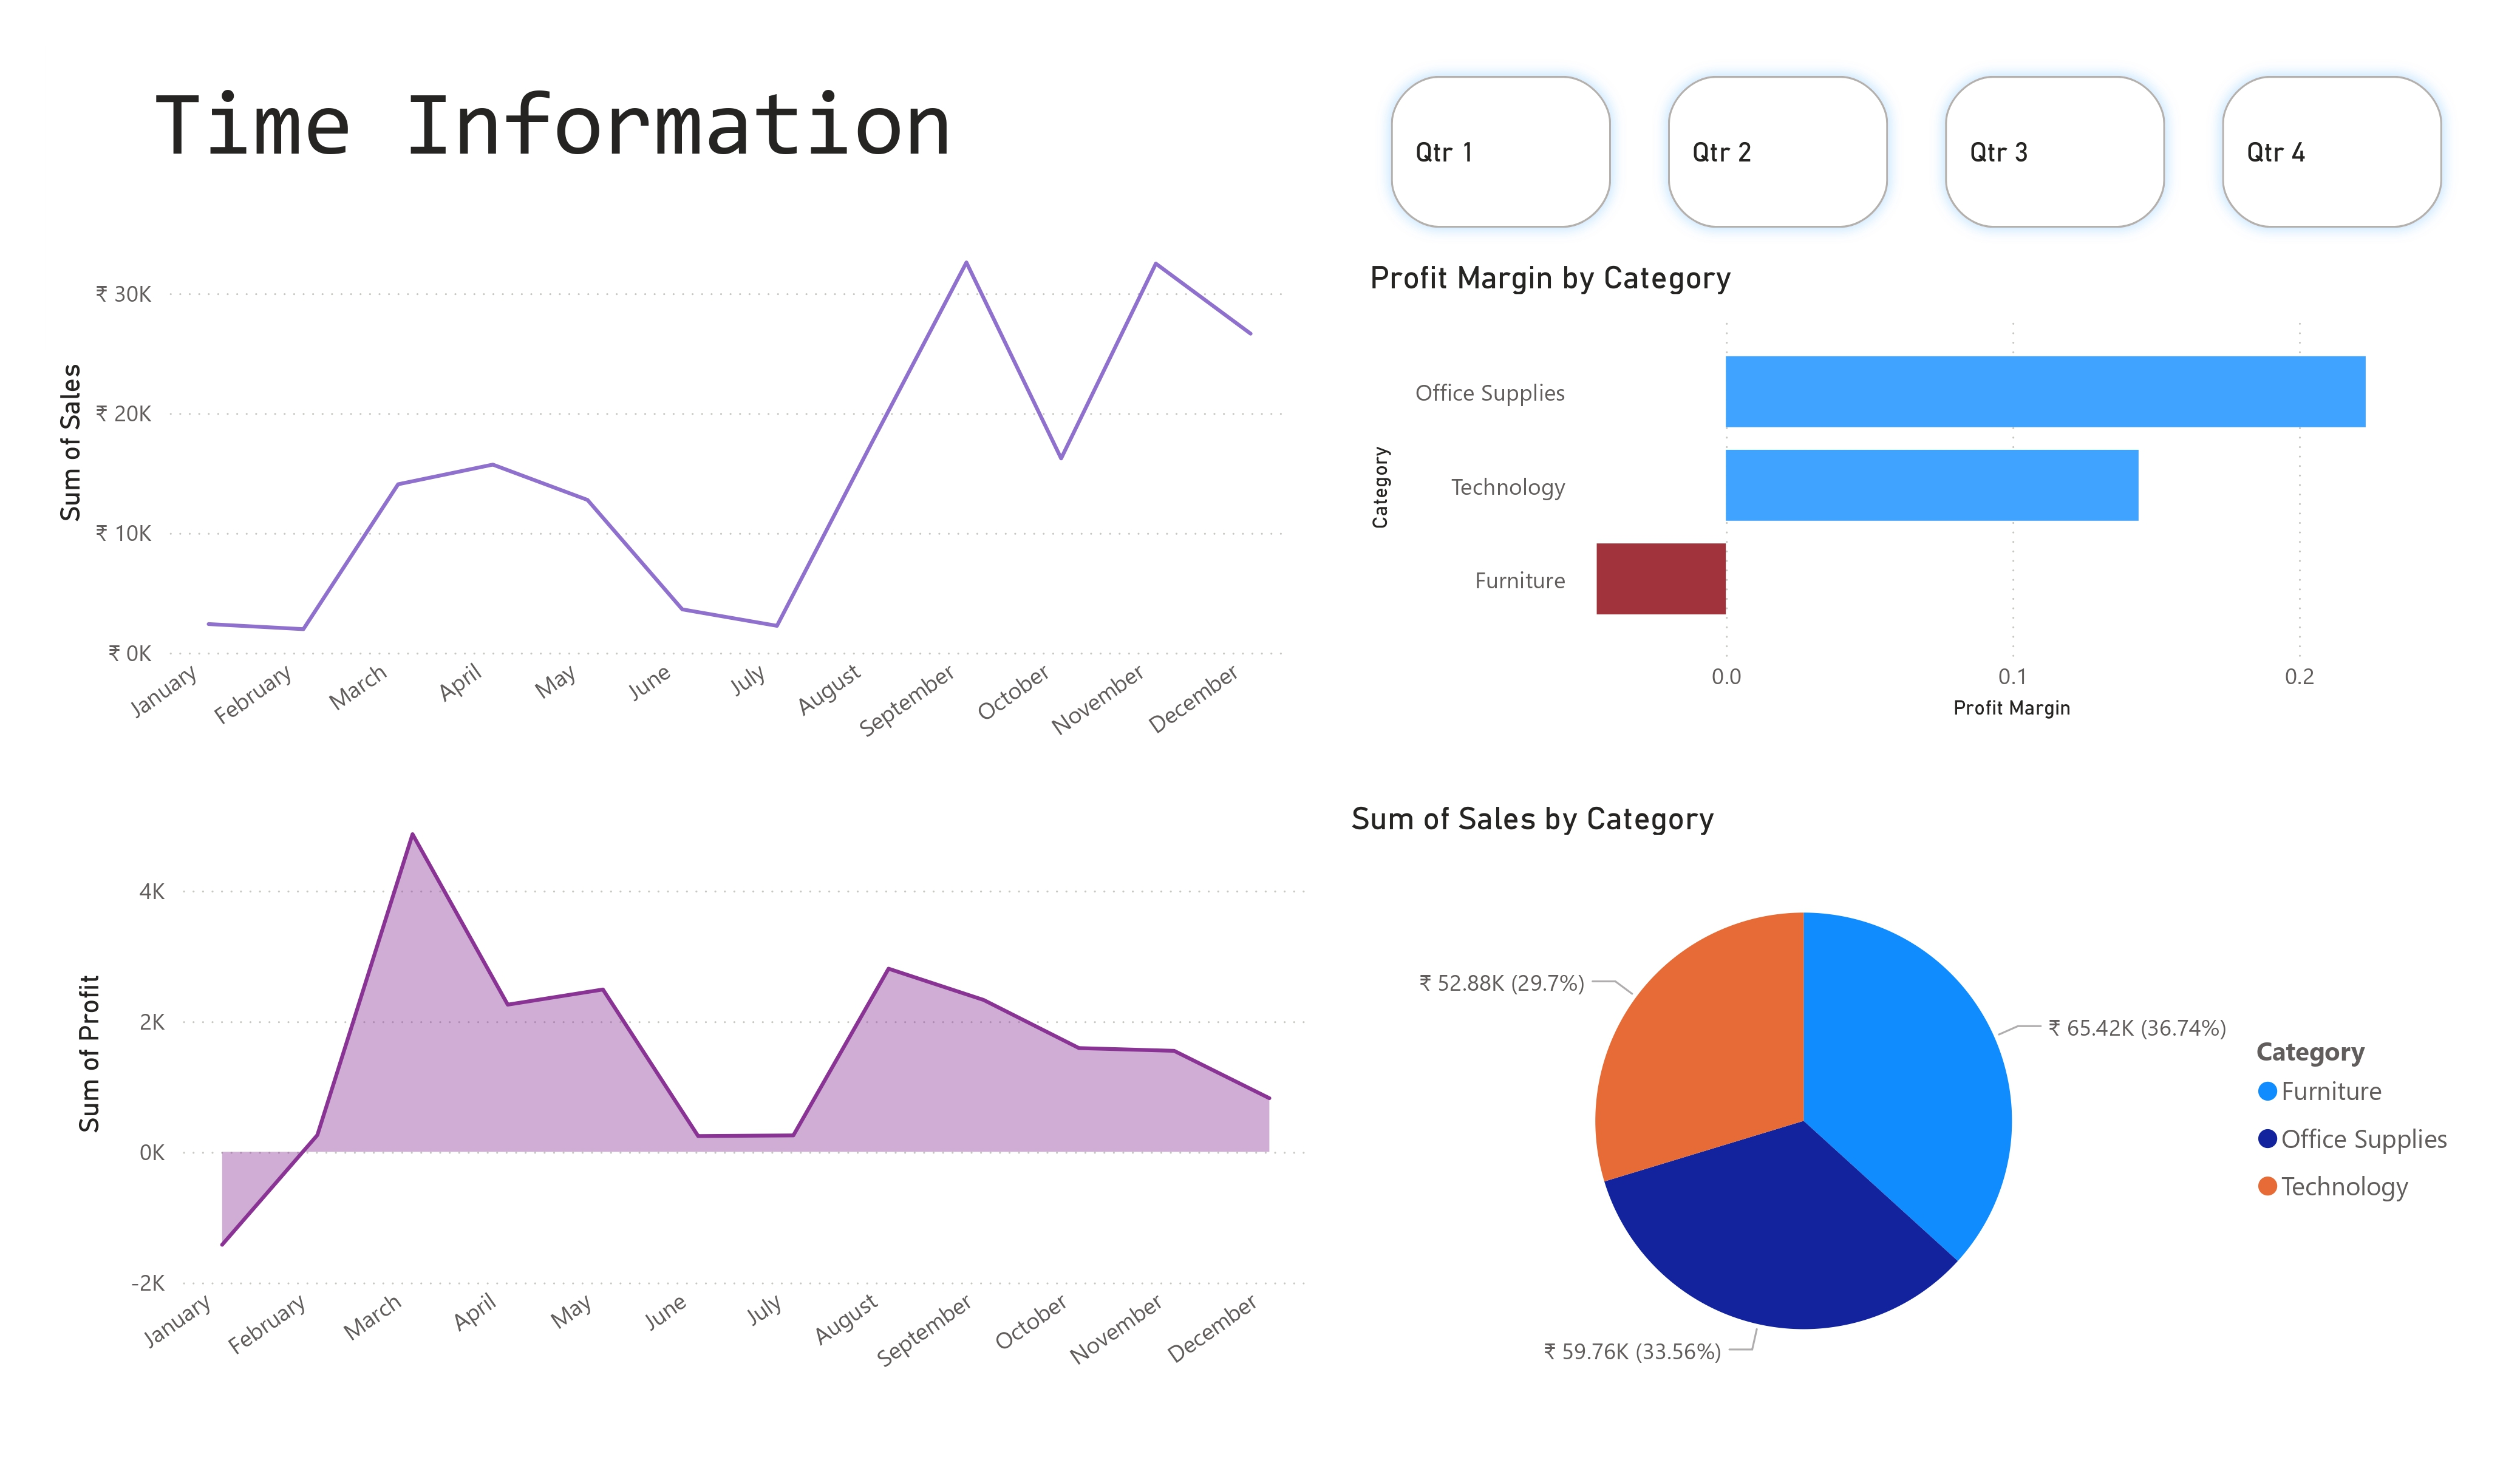

Layout of this report page (visuals, bound fields, positions):
{"tool":"powerbi","page":{"name":"Time Infomation","canvas":[1280,720],"ordinal":0},"visuals":[{"type":"lineChart","fields":{"Category":["dataset.Date.Variation.Date Hierarchy.Month"],"Y":["Sum(dataset.Sales)"]},"box":[0,85,660,303.3],"z":0},{"type":"areaChart","fields":{"Category":["dataset.Date.Variation.Date Hierarchy.Month"],"Y":["Sum(dataset.Profit)"]},"box":[10,396.7,660,323.3],"z":1000},{"type":"advancedSlicerVisual","fields":{"Values":["dataset.Date.Variation.Date Hierarchy.Quarter"]},"box":[693.3,0,586.7,111.7],"z":2000},{"type":"pieChart","fields":{"Category":["dataset.Category"],"Y":["Sum(dataset.Sales)"]},"box":[683.3,396.7,596.7,321.7],"z":3000},{"type":"clusteredBarChart","fields":{"Category":["dataset.Category"],"Y":["dataset.Profit Margin"]},"box":[693.3,111.7,586.7,248.3],"z":4000},{"type":"textbox","box":[30,8.3,475,81.7],"z":4001}]}

Visuals, with their boxes on the page's 1280x720 design canvas (x1, y1, x2, y2). These are canvas units, not pixel positions in the 2520x1457 screenshot, which may show the page scaled, cropped or inside an application window:
lineChart - dataset.Date.Variation.Date Hierarchy.Month x Sum(dataset.Sales): left=0, top=85, right=660, bottom=388
areaChart - dataset.Date.Variation.Date Hierarchy.Month x Sum(dataset.Profit): left=10, top=397, right=670, bottom=720
advancedSlicerVisual - dataset.Date.Variation.Date Hierarchy.Quarter: left=693, top=0, right=1280, bottom=112
pieChart - dataset.Category x Sum(dataset.Sales): left=683, top=397, right=1280, bottom=718
clusteredBarChart - dataset.Category x dataset.Profit Margin: left=693, top=112, right=1280, bottom=360
textbox: left=30, top=8, right=505, bottom=90
